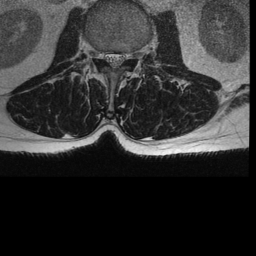CCS_normal: (111, 44, 118, 77)
LFS_normal: (125, 42, 134, 67)
LLS_normal: (118, 44, 125, 72)
RFS_normal: (96, 40, 104, 66)
RLS_normal: (103, 44, 111, 70)
